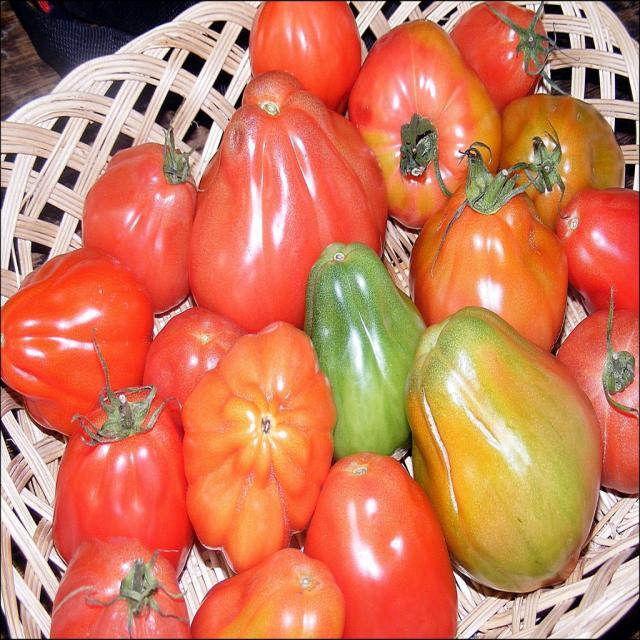Tomato: (0, 0, 639, 639), (309, 452, 461, 634)
